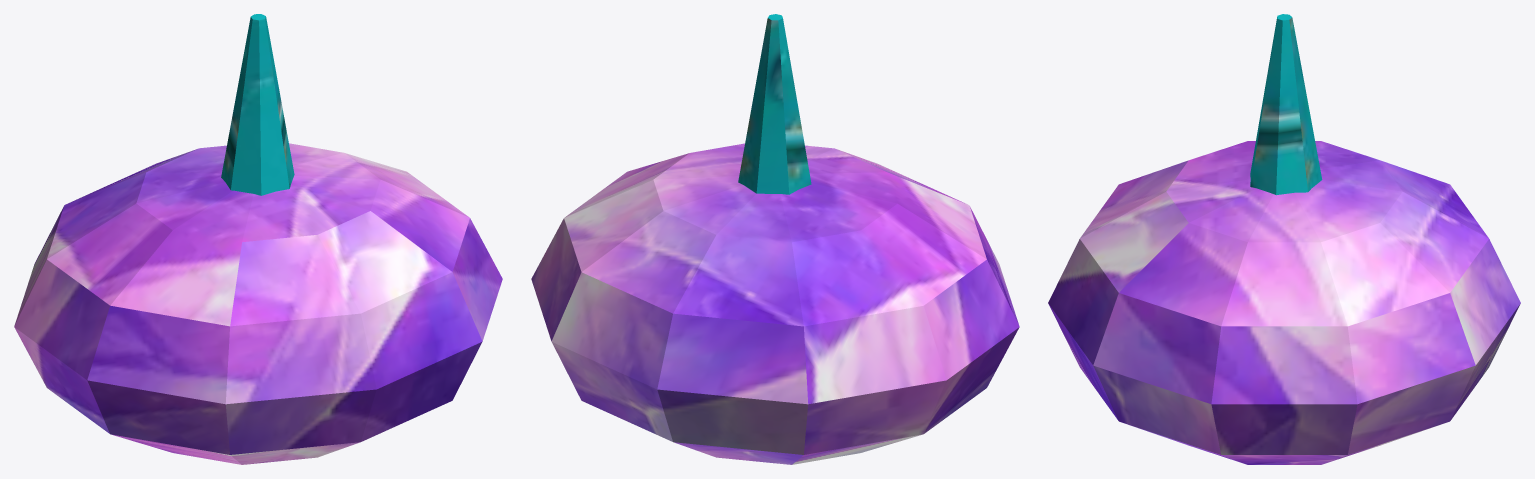
Rendered from deco_cristal_hito.glb.
The picture shows the model from 3 angles, left to right: view 1: azimuth 30°, elevation 25°; view 2: azimuth 150°, elevation 25°; view 3: azimuth 270°, elevation 25°; orthographic projection.
Visible parts, largest first — view 1: deco_cristal_hito; view 2: deco_cristal_hito; view 3: deco_cristal_hito.
Part boxes in pixels (x1=…): deco_cristal_hito: x1=14, y1=14, x2=502, y2=464; deco_cristal_hito: x1=531, y1=14, x2=1019, y2=464; deco_cristal_hito: x1=1048, y1=14, x2=1520, y2=464.
Size of the model in its own units: 1 by 0.9529 by 0.9857.
2 materials, 2 textured.
